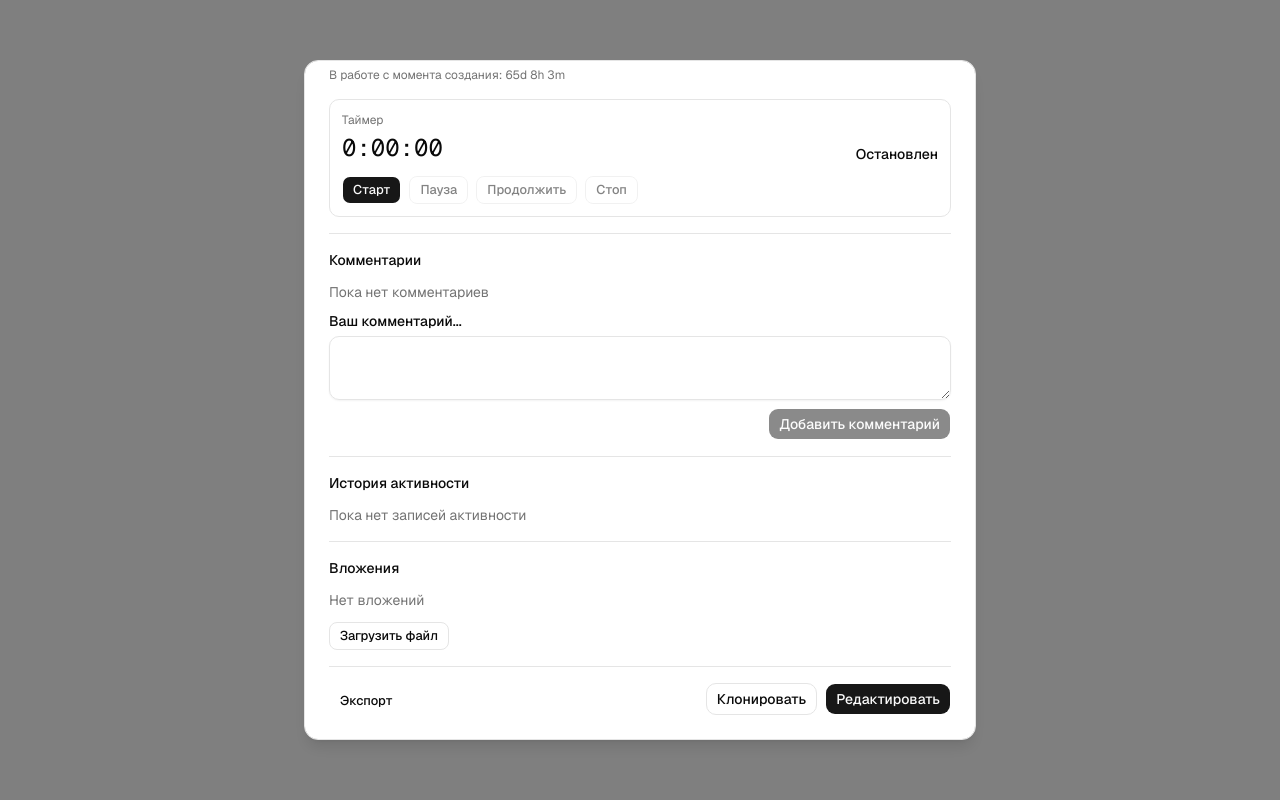
Scenario: TaskDetail edit mode › returns to read-only mode without saving when Cancel is clicked
This screenshot has width=1280, height=800.
(page scrolled)
Click the button with test id "task-detail-edit": (888, 699) [825,683,951,715]
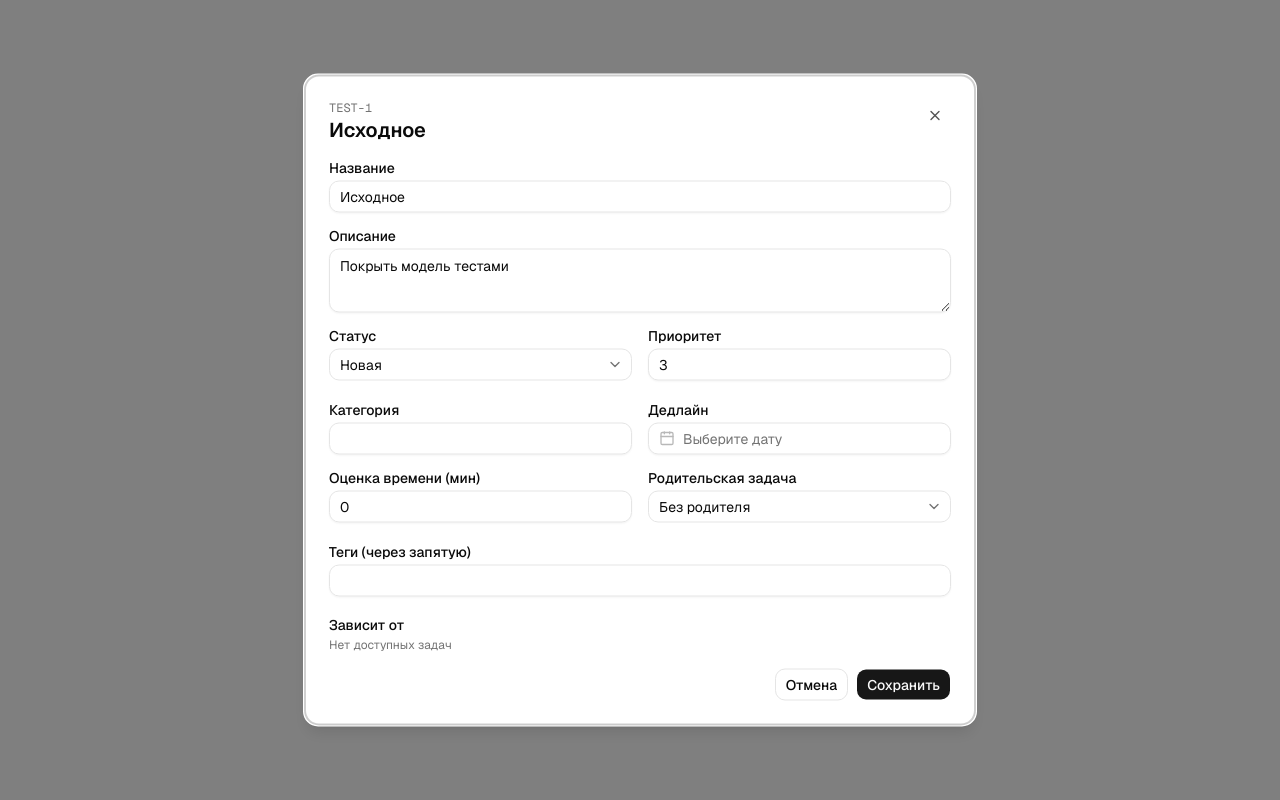
Replace the text in the field labelled "Название" with "Изменённое": (640, 196) [329,180,951,212]
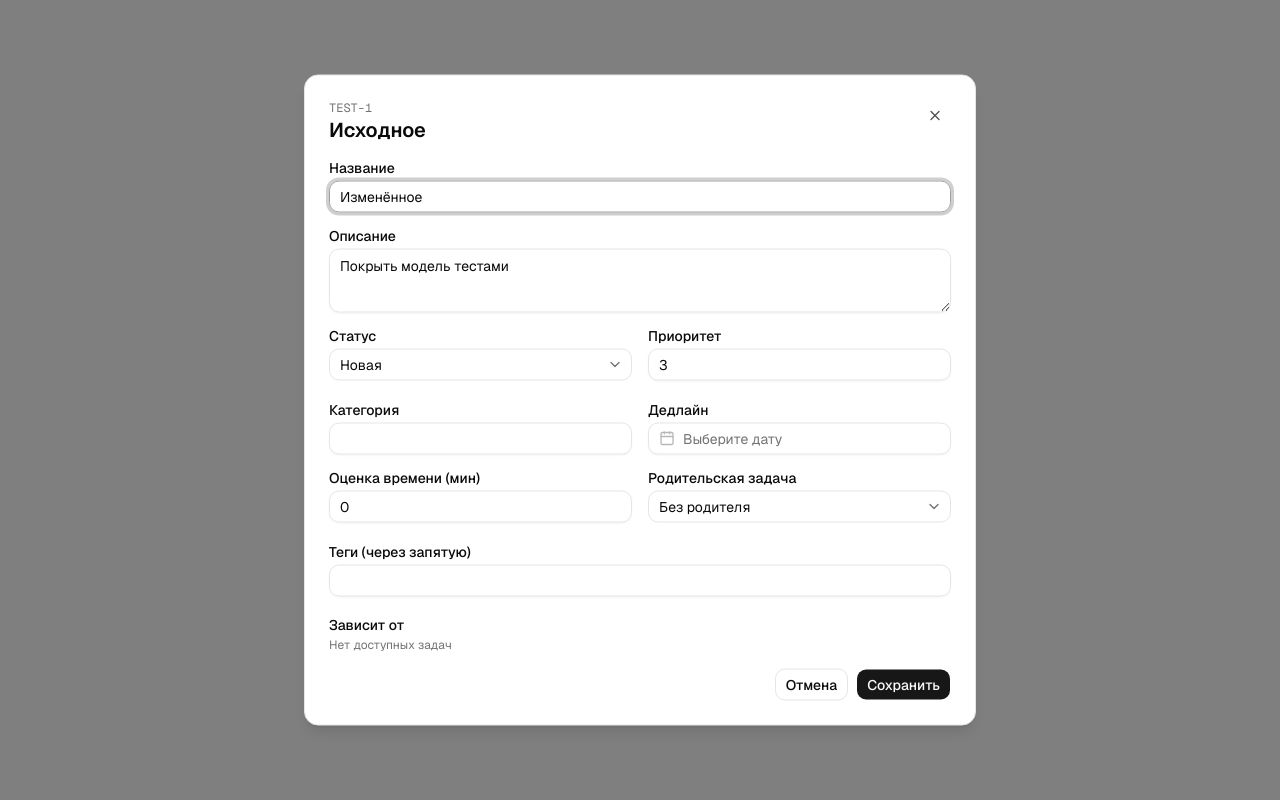
Click the button with test id "task-edit-cancel": (811, 684) [775,668,848,700]
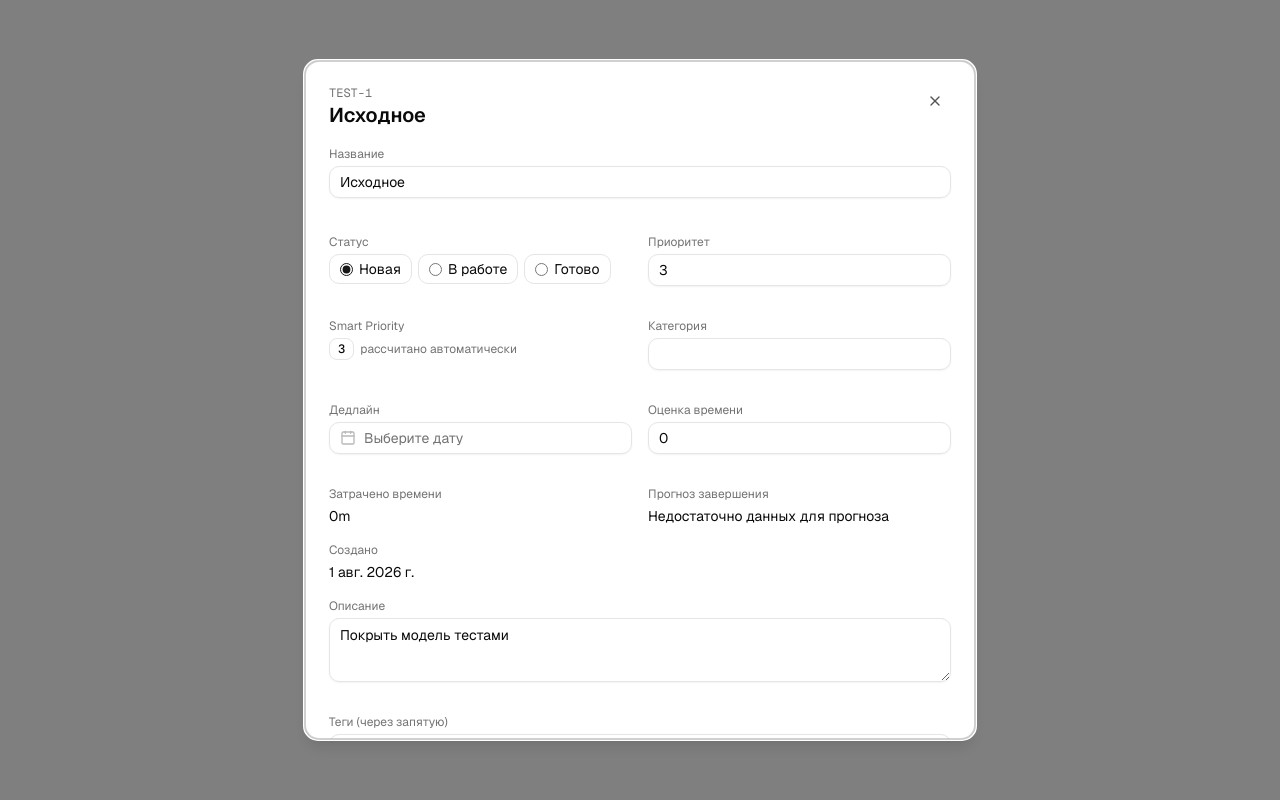
Result: the dialog shows "Исходное" at [329,102,426,128]
Result: the form with test id "task-edit-form" is gone
